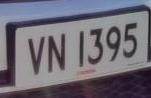1: (74, 27, 87, 68)
3: (85, 24, 106, 69)
5: (122, 18, 140, 60)
9: (103, 22, 123, 65)
N: (47, 30, 69, 78)
V: (25, 33, 48, 80)
